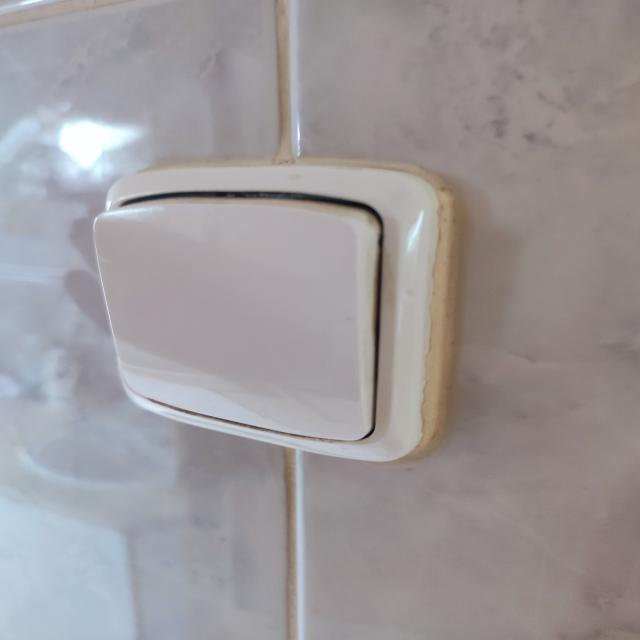house switch: (92, 162, 441, 459)
